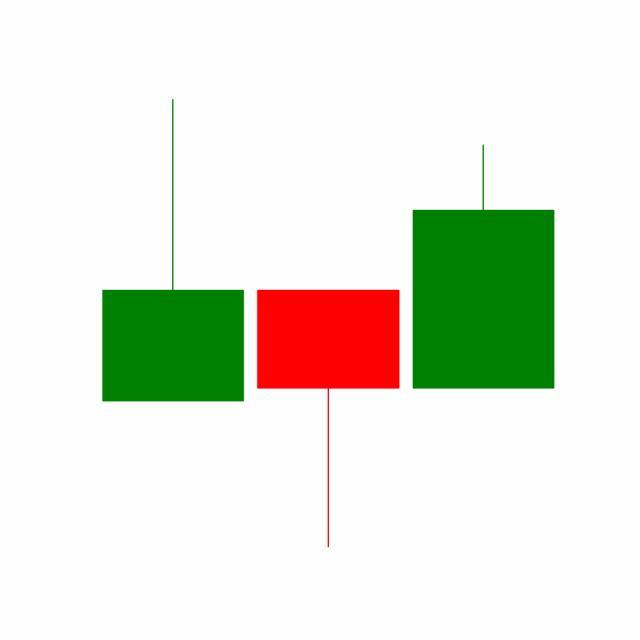Hammer: (250, 288, 407, 551)
